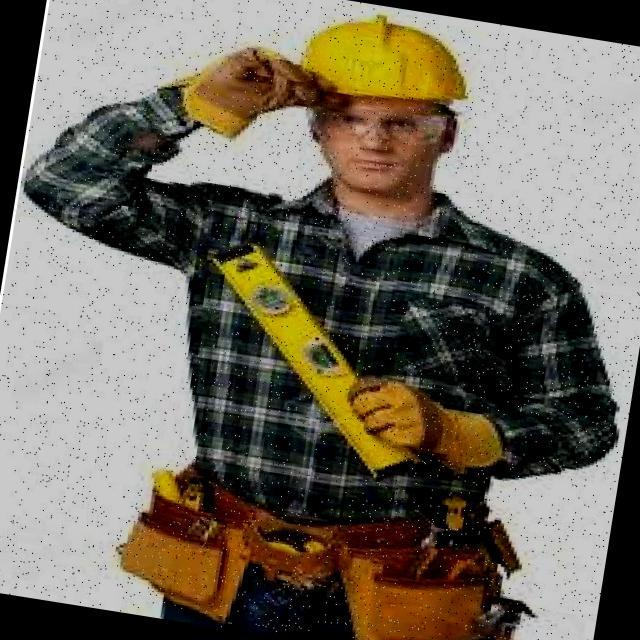Gloves: (163, 36, 353, 151), (335, 371, 507, 481)
Helmet: (297, 0, 476, 111)
no-vest: (18, 80, 625, 534)
